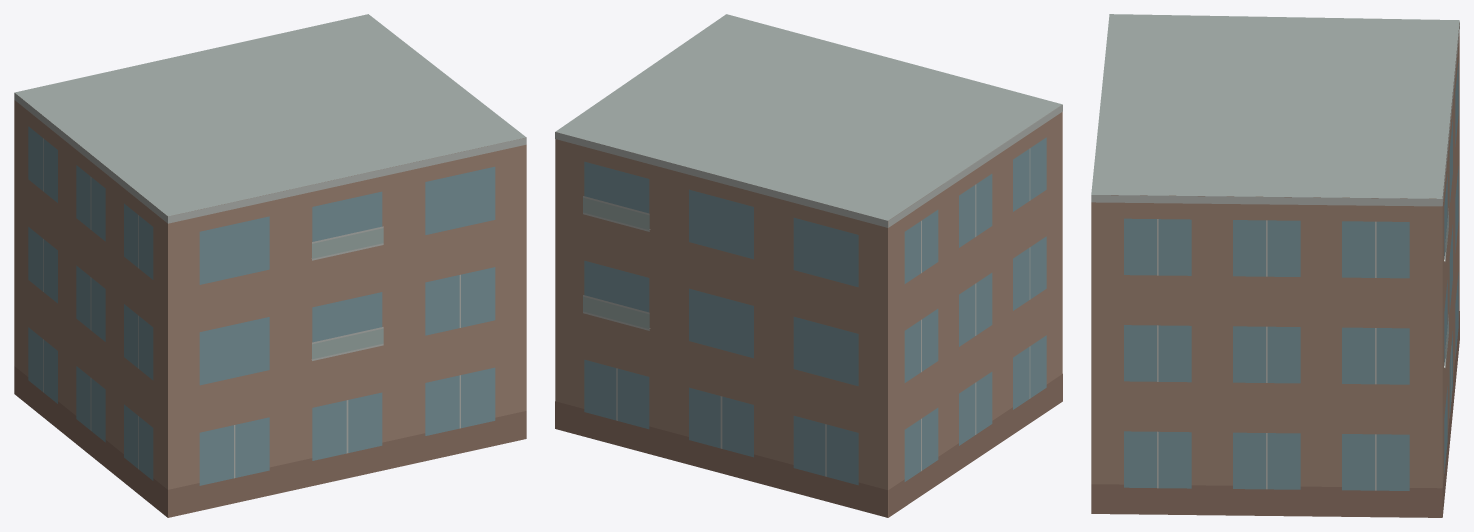
Rendered from survey-upis-32836114.glb.
The picture shows the model from 3 angles, left to right: view 1: azimuth 30°, elevation 25°; view 2: azimuth 150°, elevation 25°; view 3: azimuth 270°, elevation 25°; orthographic projection. The views are drawn at different scales.
Visible parts, largest first — view 1: survey-upis-32836114.tmp; view 2: survey-upis-32836114.tmp; view 3: survey-upis-32836114.tmp.
Part boxes in pixels (x1,y1,x2,y2): survey-upis-32836114.tmp: (14,14,526,517); survey-upis-32836114.tmp: (555,14,1062,517); survey-upis-32836114.tmp: (1091,14,1459,517).
Size of the model in its own units: 12.68 by 10.2 by 10.69.
